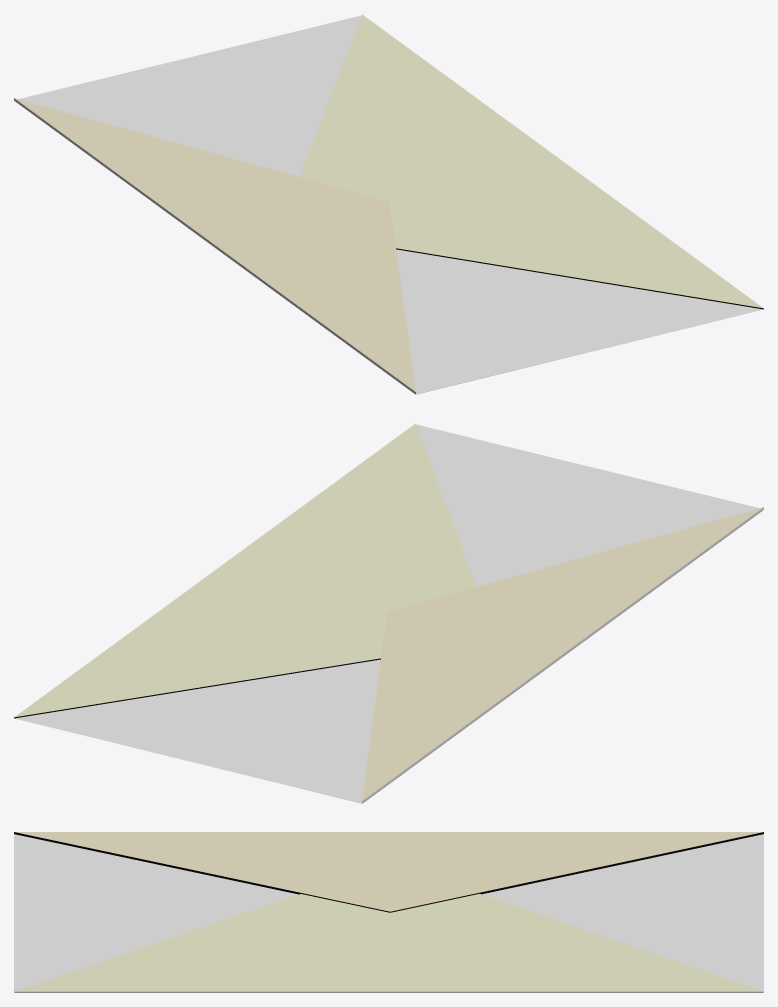
The model's file is leave 2.fbx.
3 views of the same model, one above another, from view 1: azimuth 30°, elevation 25°; view 2: azimuth 150°, elevation 25°; view 3: azimuth 270°, elevation 25° (orthographic). The views are drawn at different scales.
Parts seen in each view (by area): view 1: Plane; view 2: Plane; view 3: Plane.
Part boxes in pixels (x1,y1,x2,y2): Plane: [14, 14, 763, 394]; Plane: [14, 423, 763, 803]; Plane: [14, 832, 763, 992].
Bounding box in the file's own units: 200 × 1.66 × 400.
